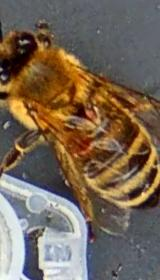varroa_mite: (59, 123, 110, 164)
